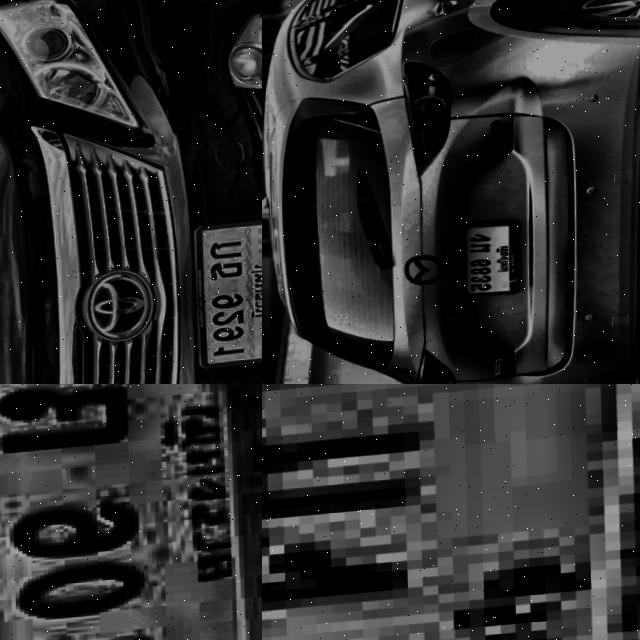license-plate: (262, 384, 640, 640), (0, 384, 262, 640), (179, 222, 262, 378), (450, 218, 529, 307)
